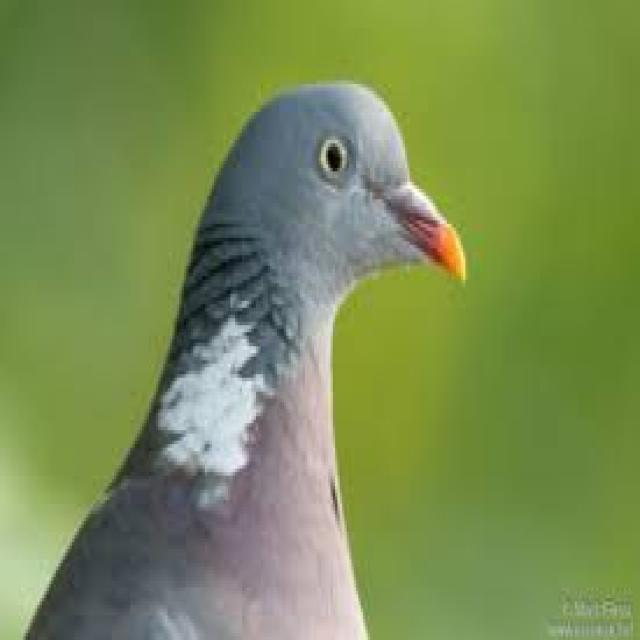pigeon: (22, 70, 479, 640)
